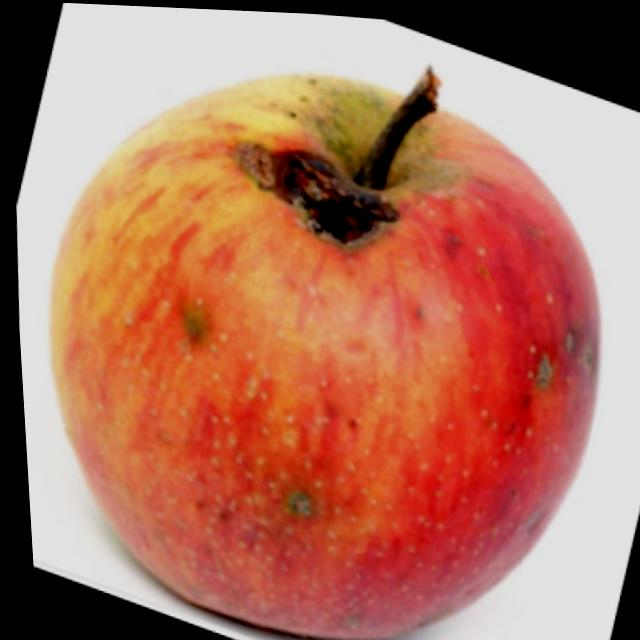organik: (2, 16, 640, 640)
